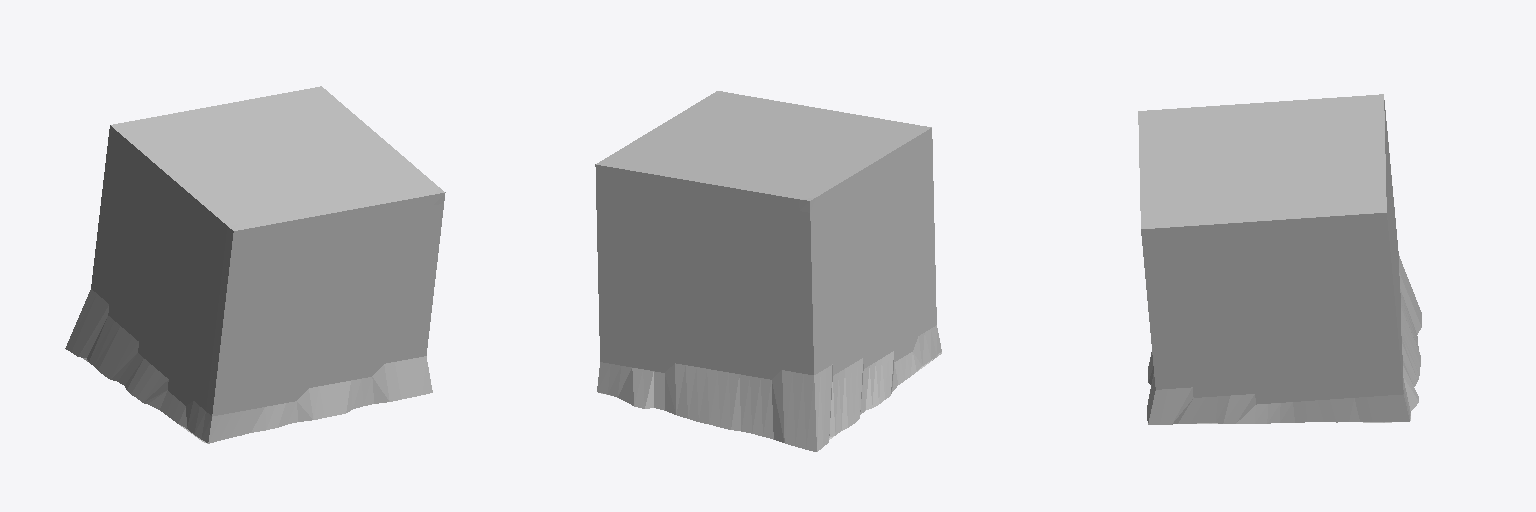
Rendered from mod0007.obj.
3 views of the same model, side by side, from view 1: azimuth 30°, elevation 25°; view 2: azimuth 150°, elevation 25°; view 3: azimuth 270°, elevation 25° (orthographic).
Visible parts, largest first — view 1: Box001; view 2: Box001; view 3: Box001.
Part boxes in pixels (x1,y1,x2,y2): Box001: (65,86,445,443); Box001: (595,91,941,451); Box001: (1138,94,1421,424).
Bounding box in the file's own units: 0.6022 × 0.5567 × 0.6171.